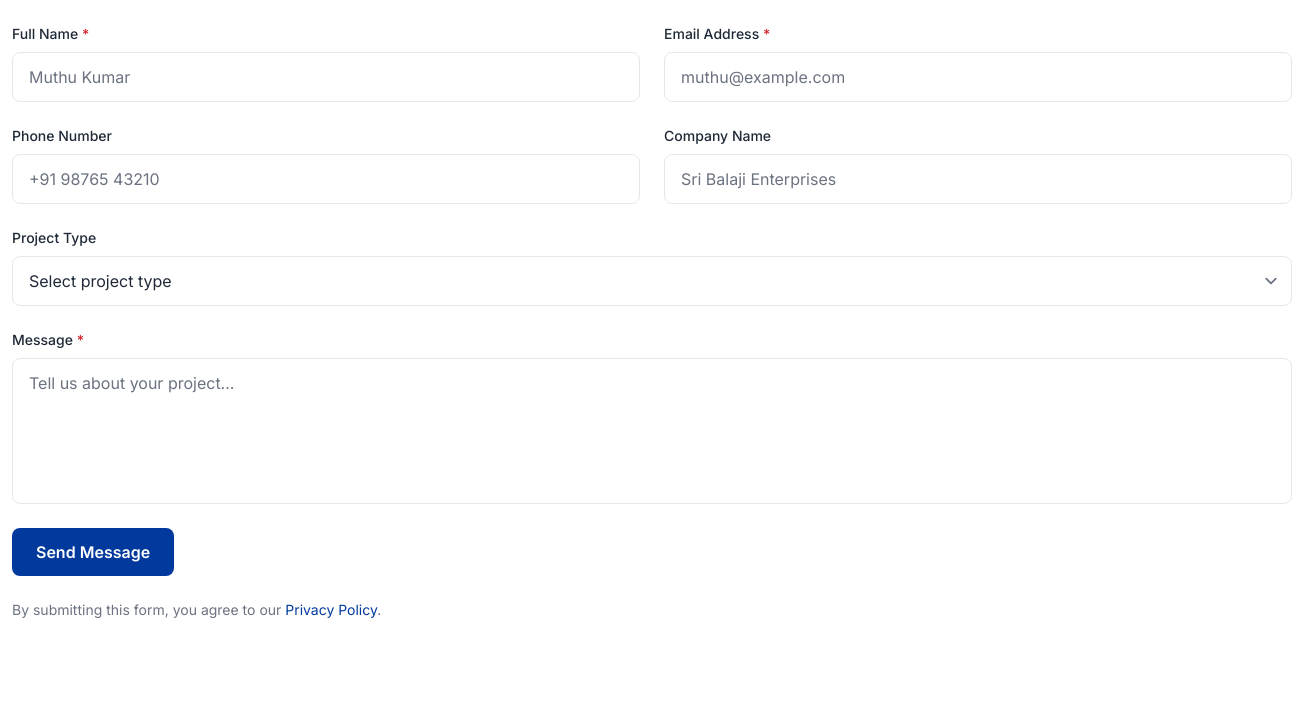
Test: ContactForm › shows success message after successful submission
Note: Fill out the form
In the field labelled "Full Name *": (326, 77) [12, 52, 640, 102], type "John Doe"
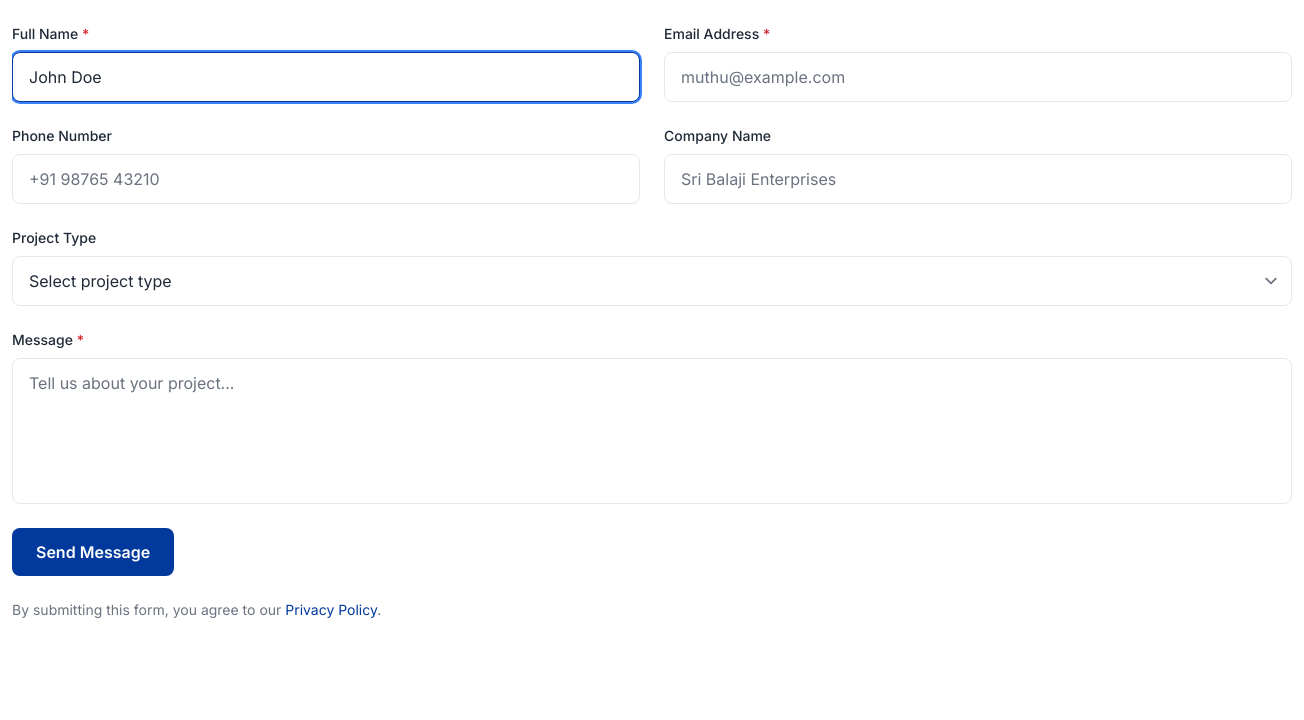
In the field labelled "Email Address *": (978, 77) [664, 52, 1292, 102], type "john@example.com"
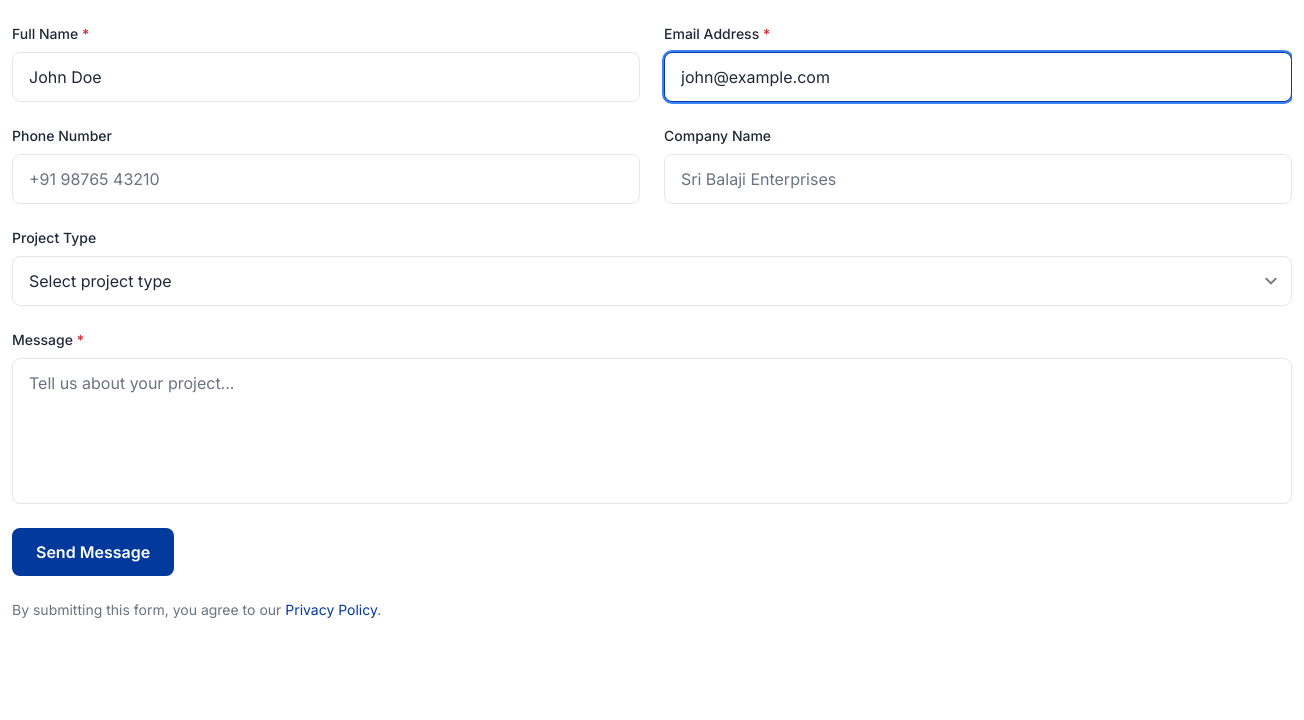
In the text box labelled "Message *": (652, 431) [12, 358, 1292, 504], type "Test message"
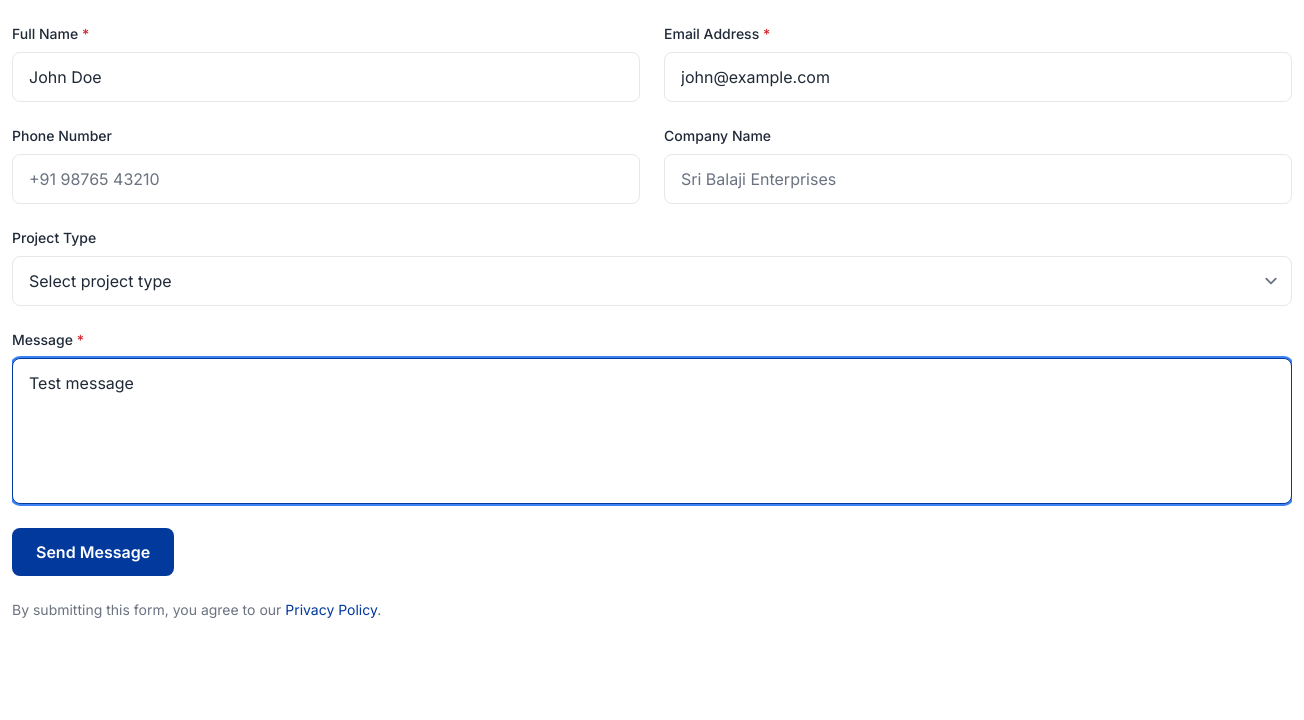
Click the button "Send Message": (93, 552) [12, 528, 174, 576]
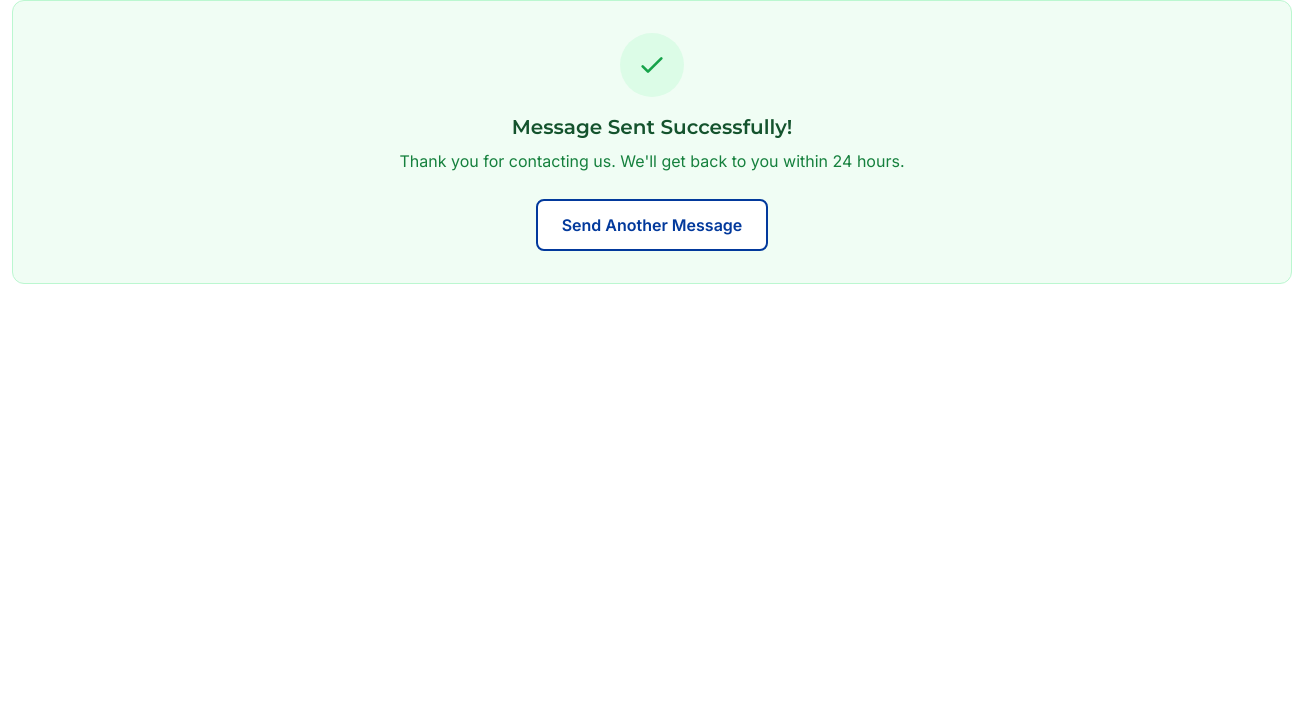
Result: the heading "Message Sent Successfully!" is shown at [512, 115, 792, 139]
